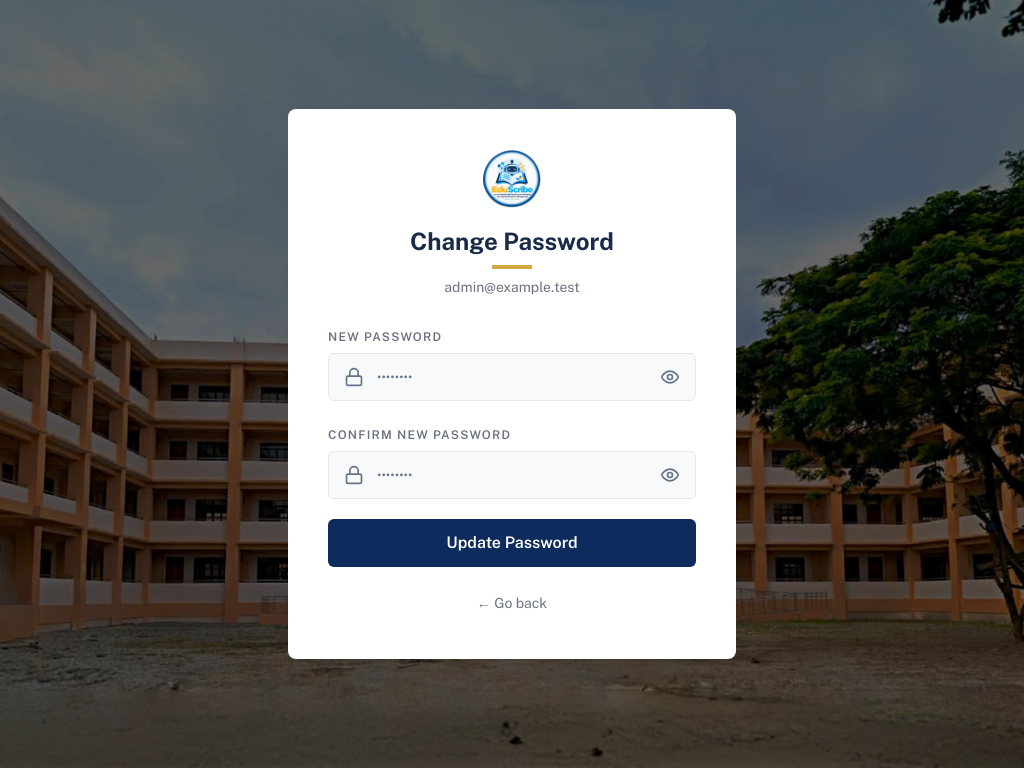
Test: Change Password presentation and behavior › CP-04 rejects a weak password without invoking authentication
Type "weak" into the password field labelled "NEW PASSWORD". click: (512, 377)
box: [328,353,696,401]
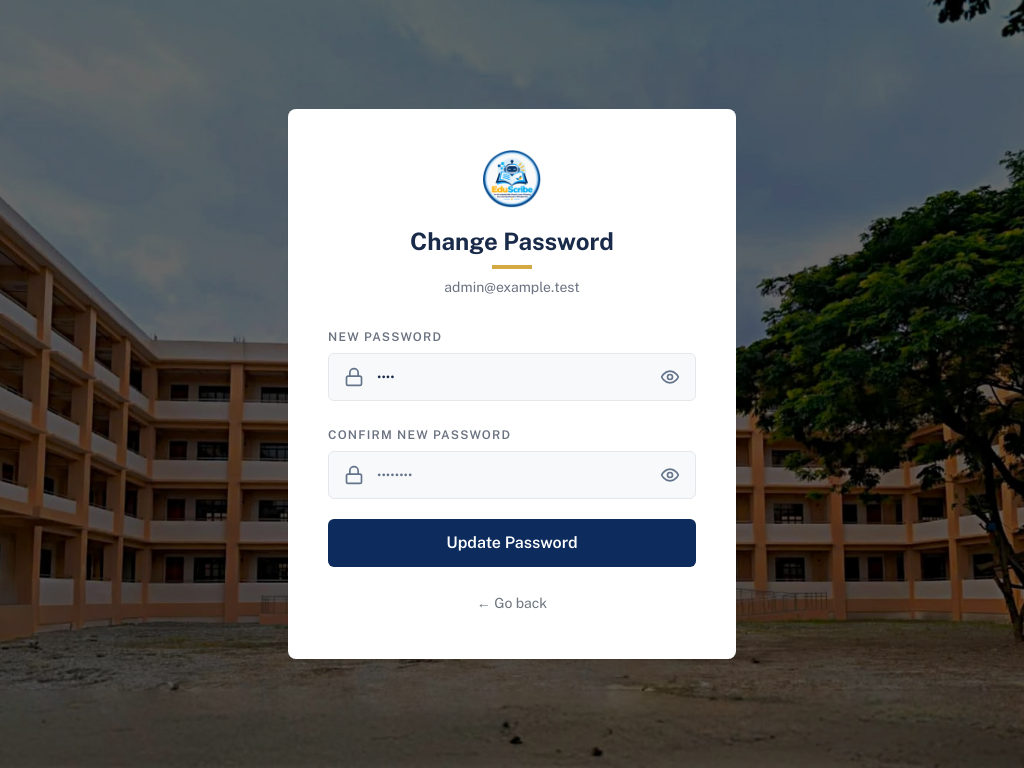
Type "weak" into the password field labelled "CONFIRM NEW PASSWORD". click: (512, 475)
box: [328,451,696,499]
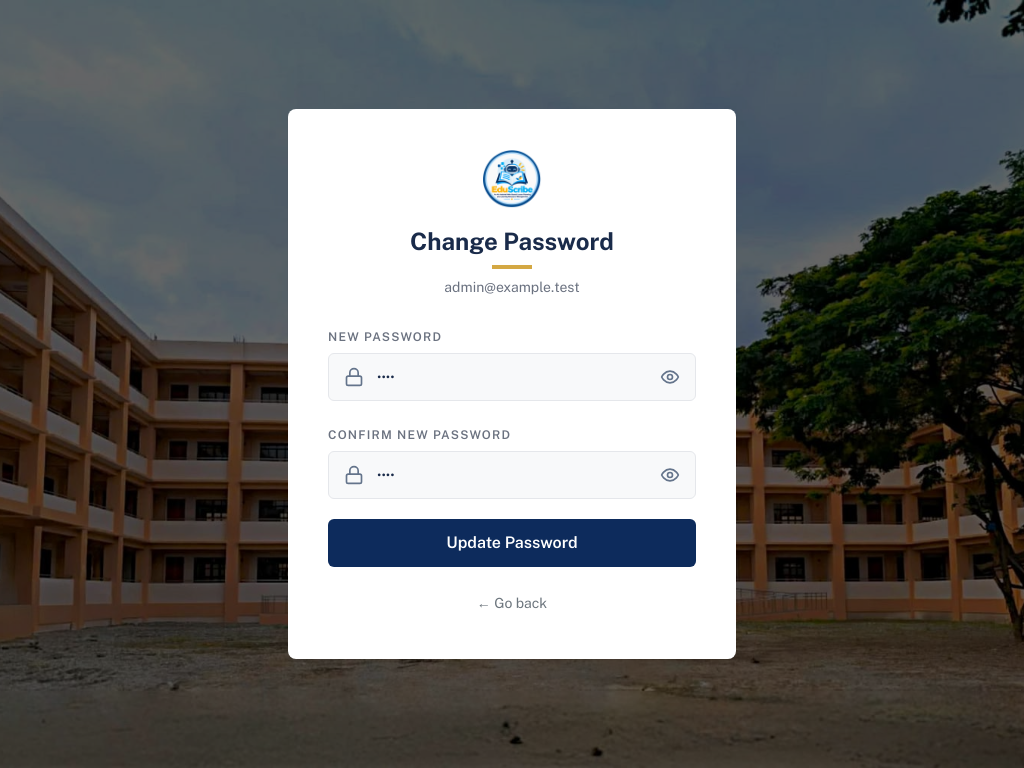
Click the button "Update Password". click: click(512, 543)
box: [328,519,696,567]
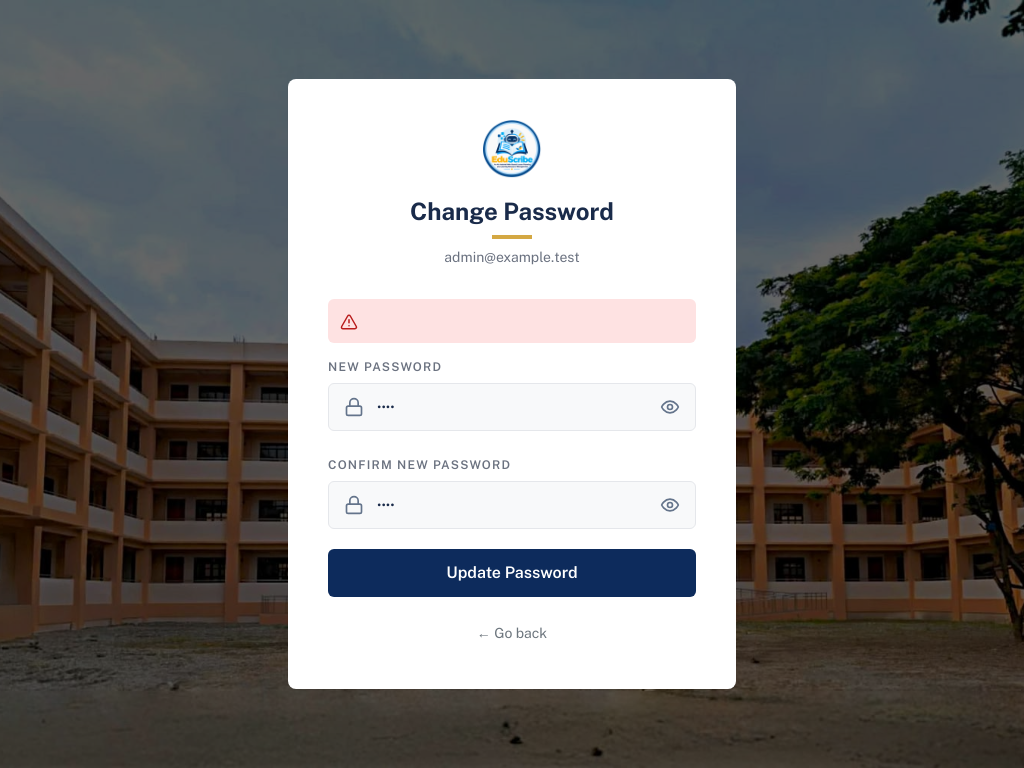
Check: the message is shown, box [328,299,696,343]
